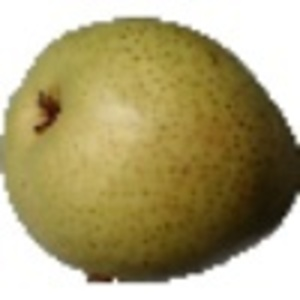pera: (1, 14, 300, 286)
